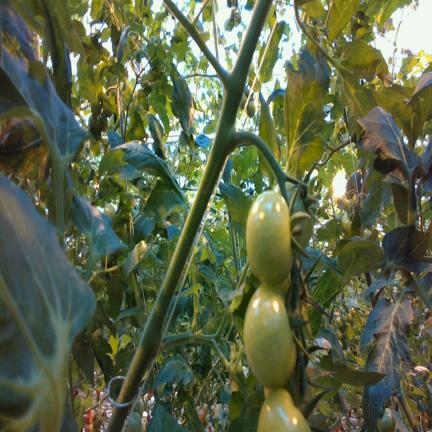6kp_peduncle: (204, 89, 285, 191)
6kp_petiole: (128, 285, 191, 389), (201, 34, 257, 132)
MainStem: (105, 0, 273, 432)
tomato: (243, 283, 296, 388), (246, 190, 292, 285), (257, 389, 310, 431), (377, 408, 395, 431), (276, 273, 290, 297), (127, 411, 142, 431), (341, 193, 357, 208), (89, 114, 99, 134), (341, 213, 351, 231), (134, 400, 144, 418), (91, 101, 101, 117), (104, 204, 115, 218), (247, 99, 255, 117), (100, 114, 108, 131), (90, 410, 96, 425), (363, 228, 371, 238), (356, 394, 362, 406), (336, 317, 342, 328), (84, 412, 90, 423), (356, 407, 362, 417), (89, 422, 94, 432), (346, 314, 352, 322), (358, 418, 363, 427), (337, 330, 342, 339), (85, 425, 90, 432)
